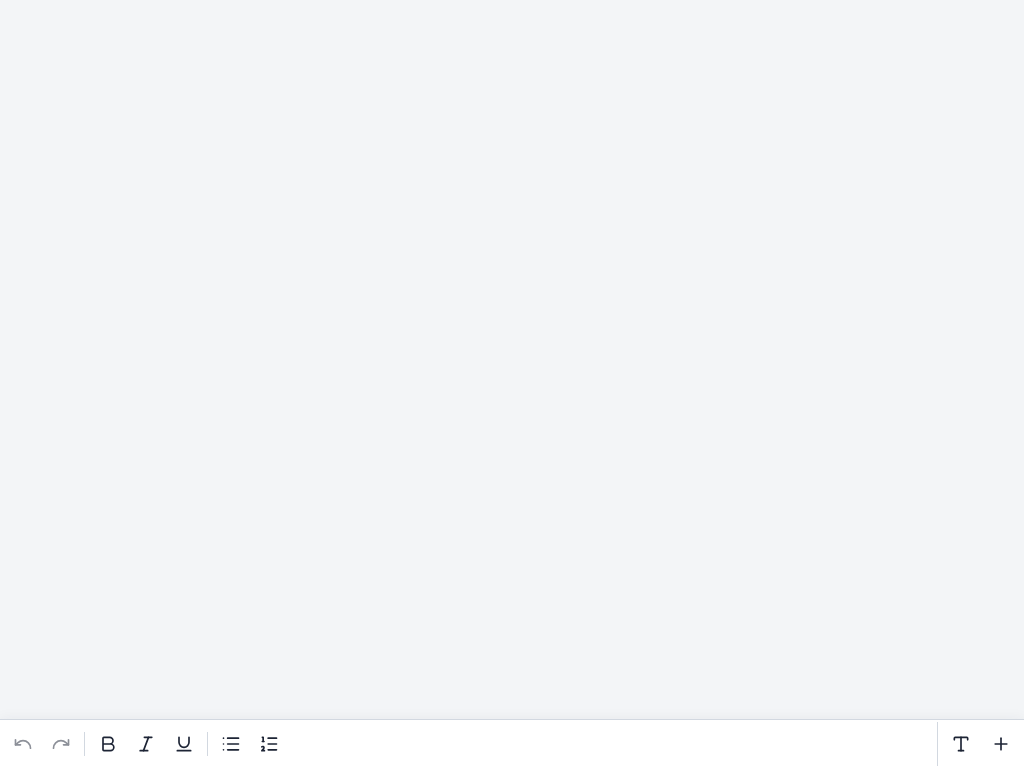
it: MobileToolbar › closes the insert panel once an insertion hands focus back to the document
The image size is (1024, 768).
Click the button named "Insert" at (1001, 744), box [982,722,1020,766]
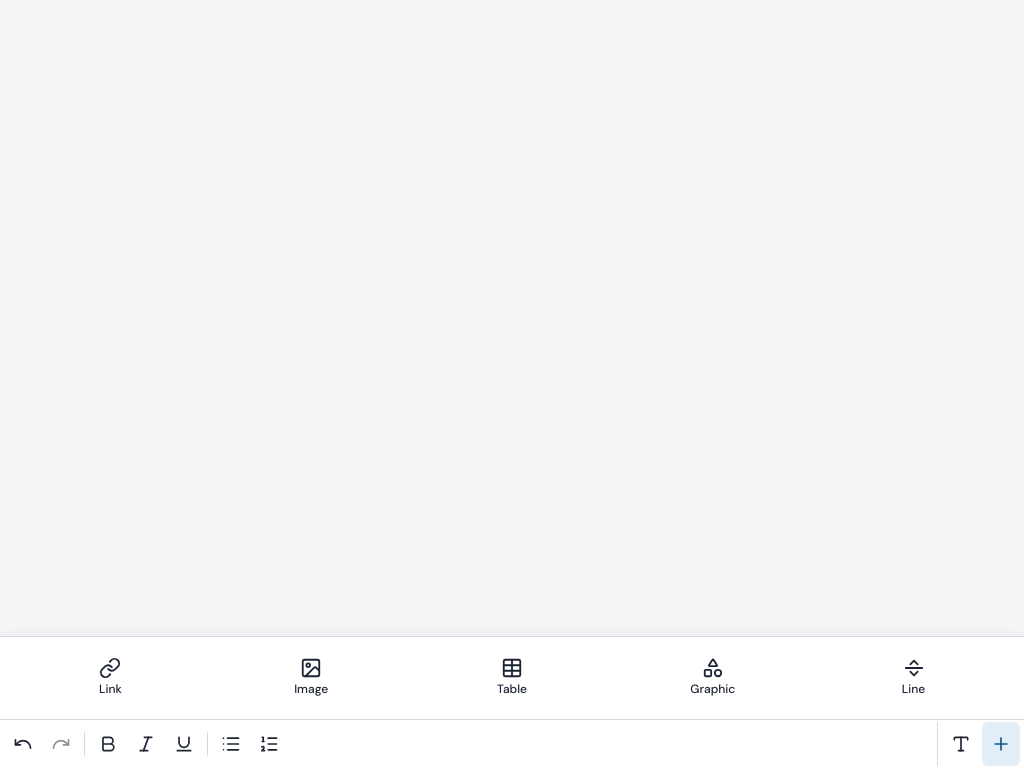
Expected: the element named "Insert" is shown, [0,637,1023,720]
Click the button with aria-label "Insert table" at (512, 677), box [414,645,610,709]
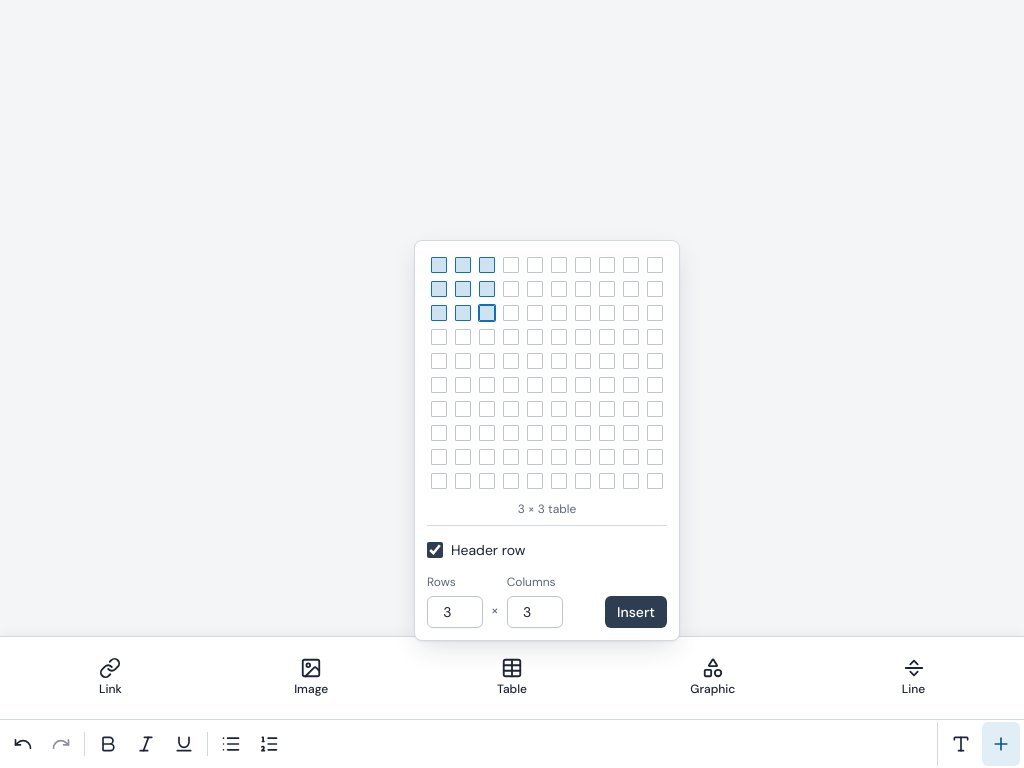
Click the cell with test id "table-picker-cell-2-2" at (463, 289), box [451,277,475,301]
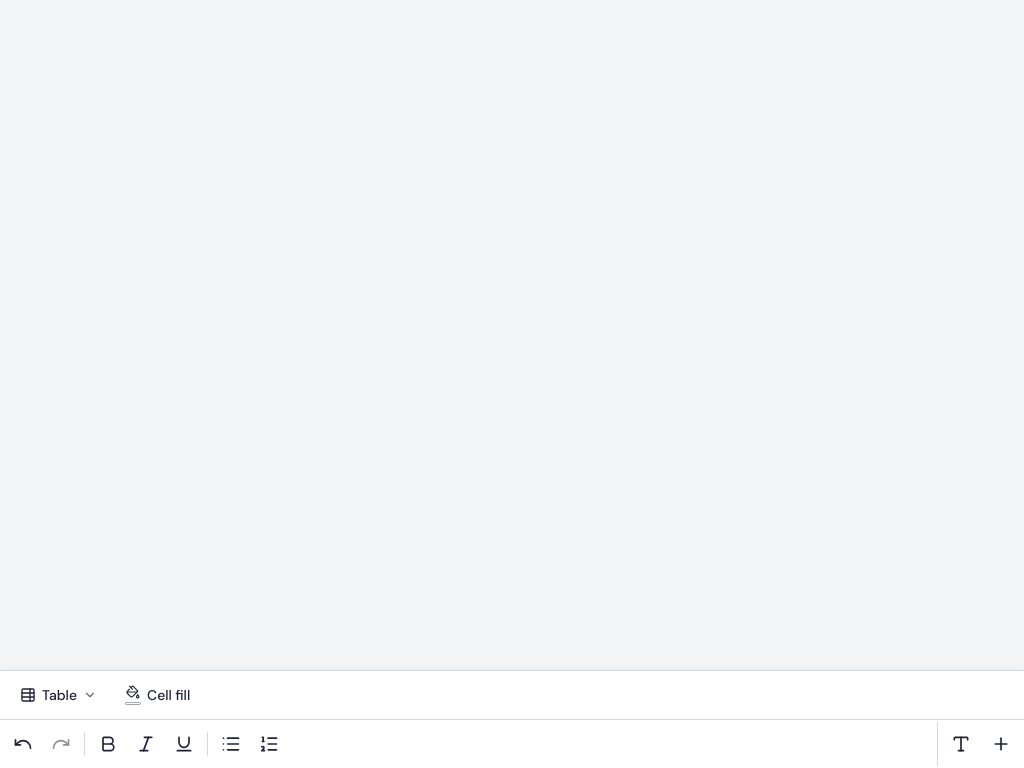
Expected: the button "Insert" is gone
